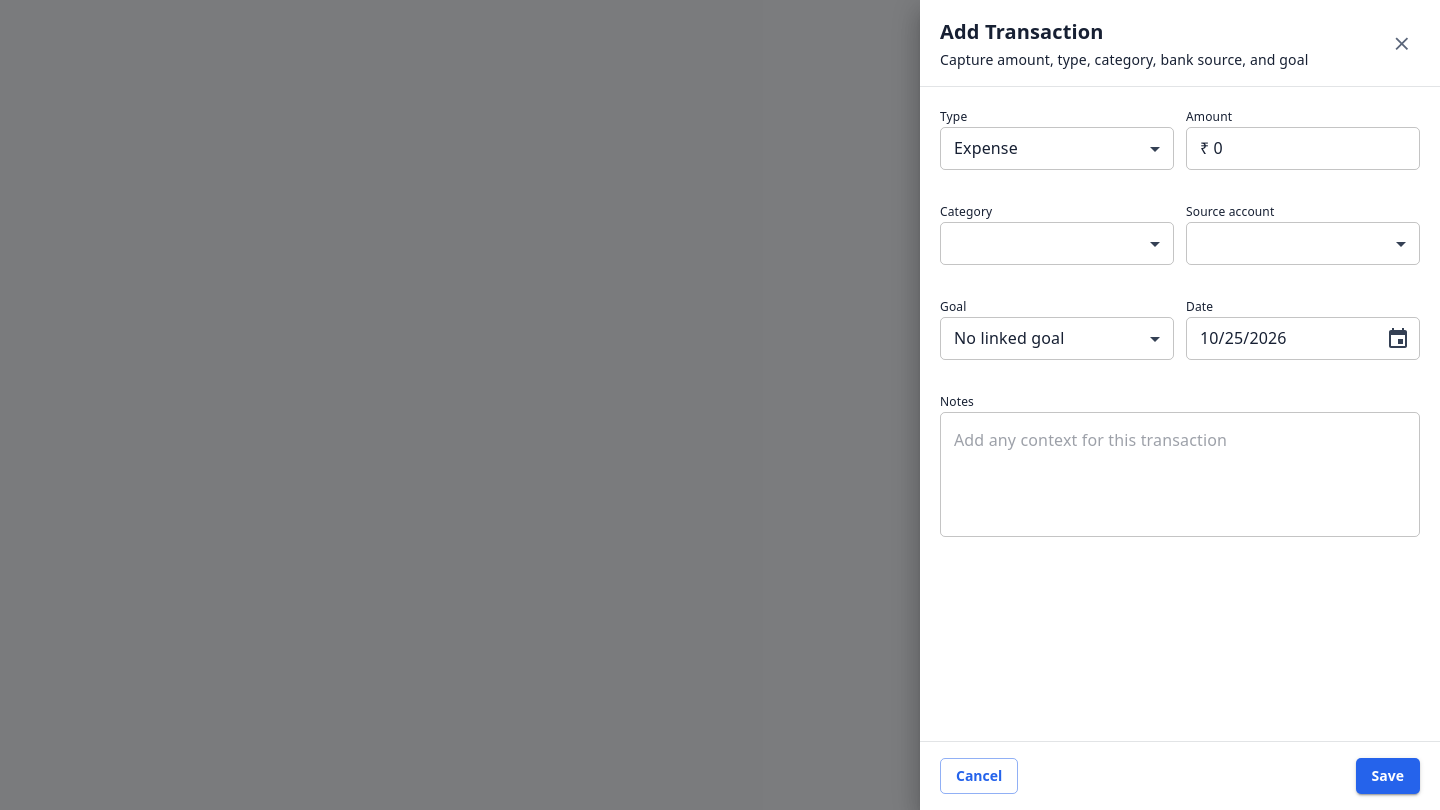
Test: TransactionsAddEditDrawer › displays a returned submit error and keeps the form available
The image size is (1440, 810).
Type "10" into the field with placeholder "Enter amount".
click(1303, 148); type("10")  # box top-left (1186, 128), bottom-right (1420, 168)
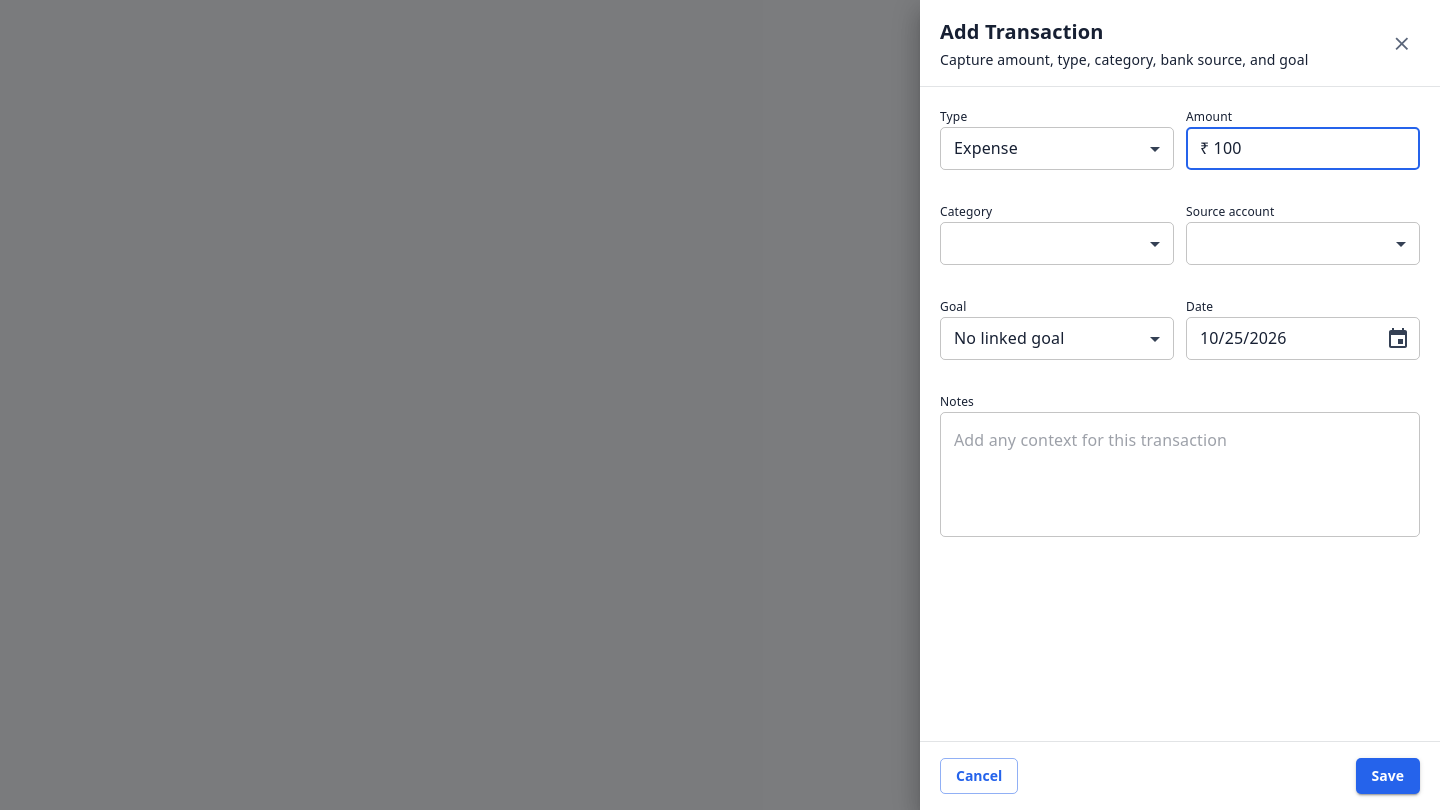
Click the 2nd dropdown.
click(1057, 244)  # box top-left (940, 224), bottom-right (1174, 264)
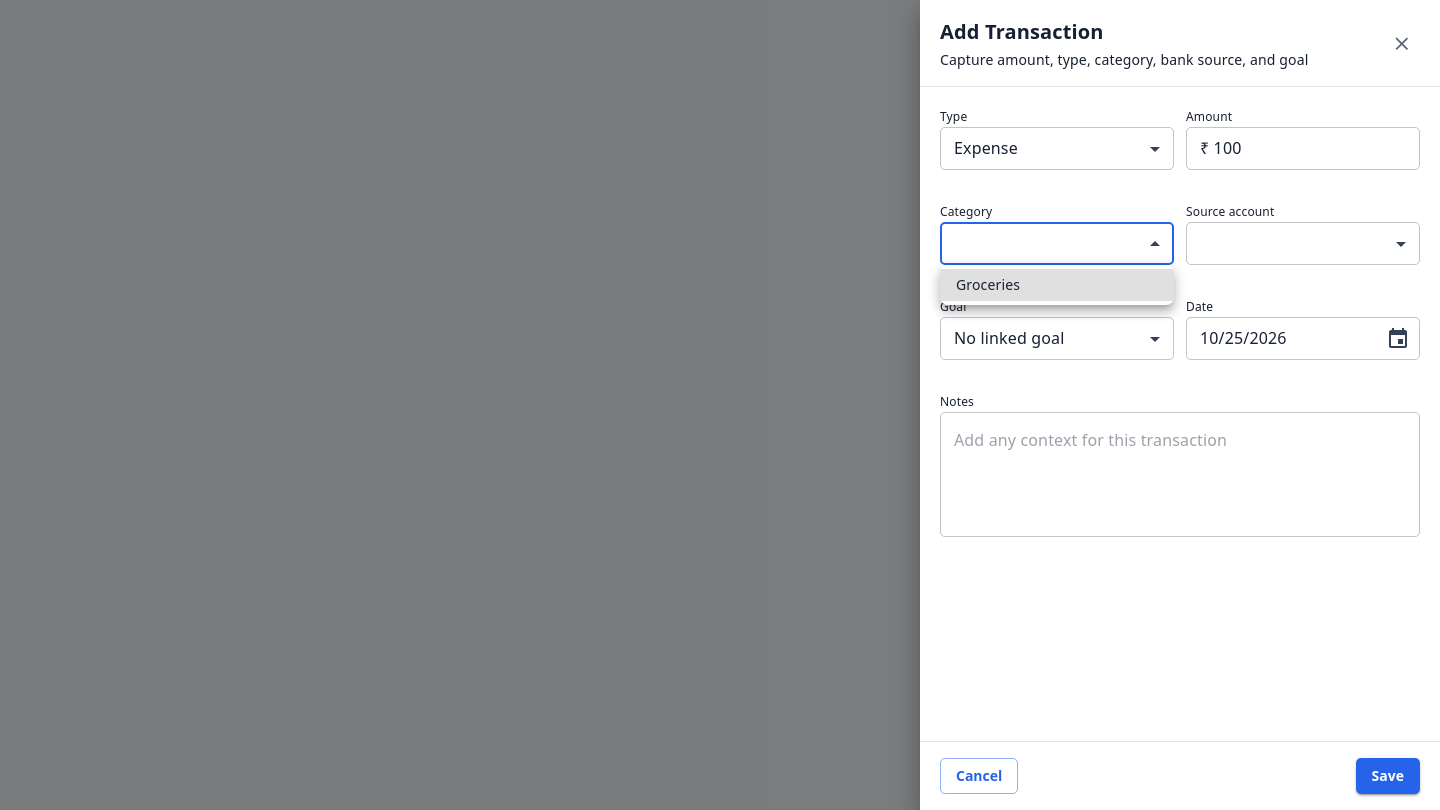
Click the option "Groceries".
click(1057, 285)  # box top-left (940, 269), bottom-right (1174, 301)
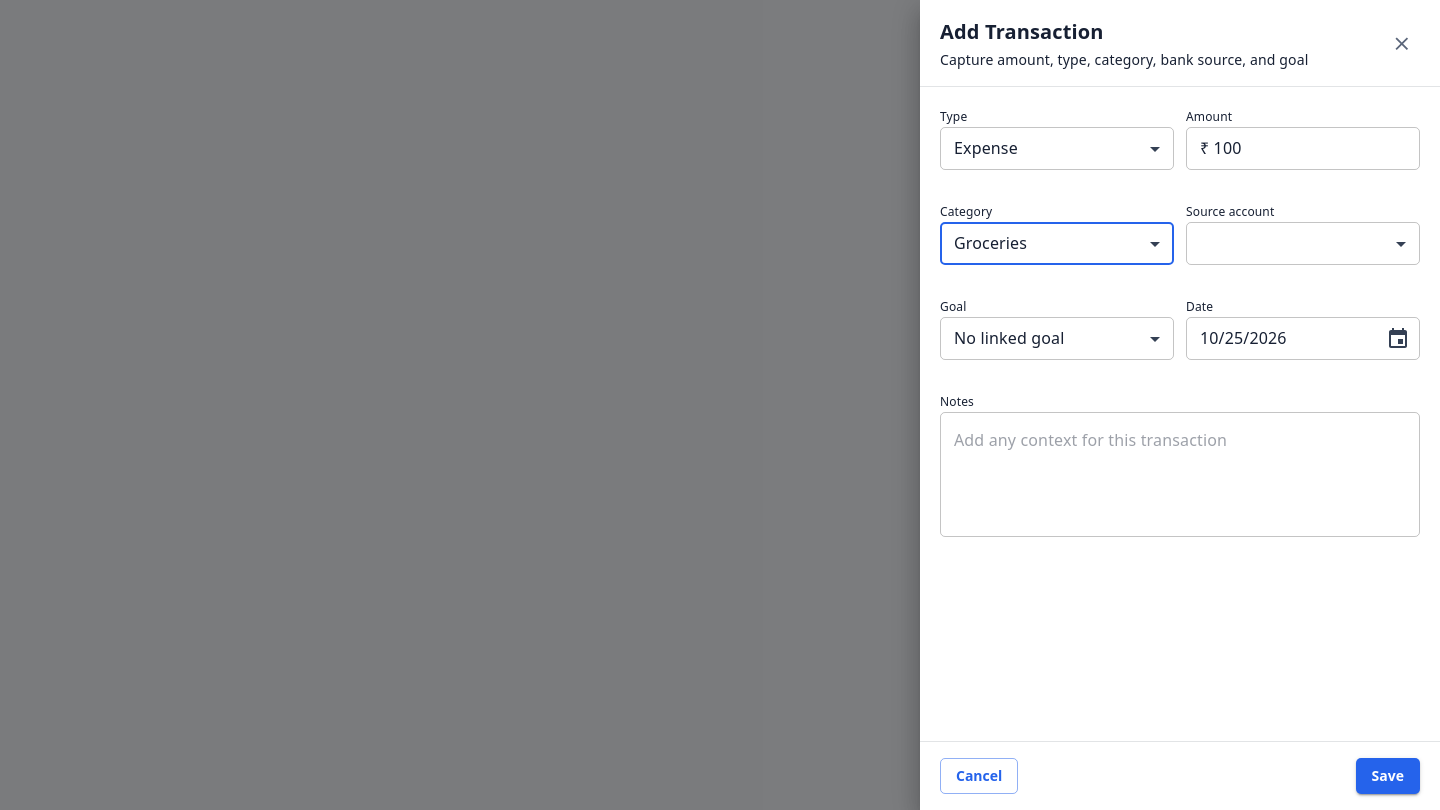
Click the 3rd dropdown.
click(1303, 244)  # box top-left (1186, 224), bottom-right (1420, 264)
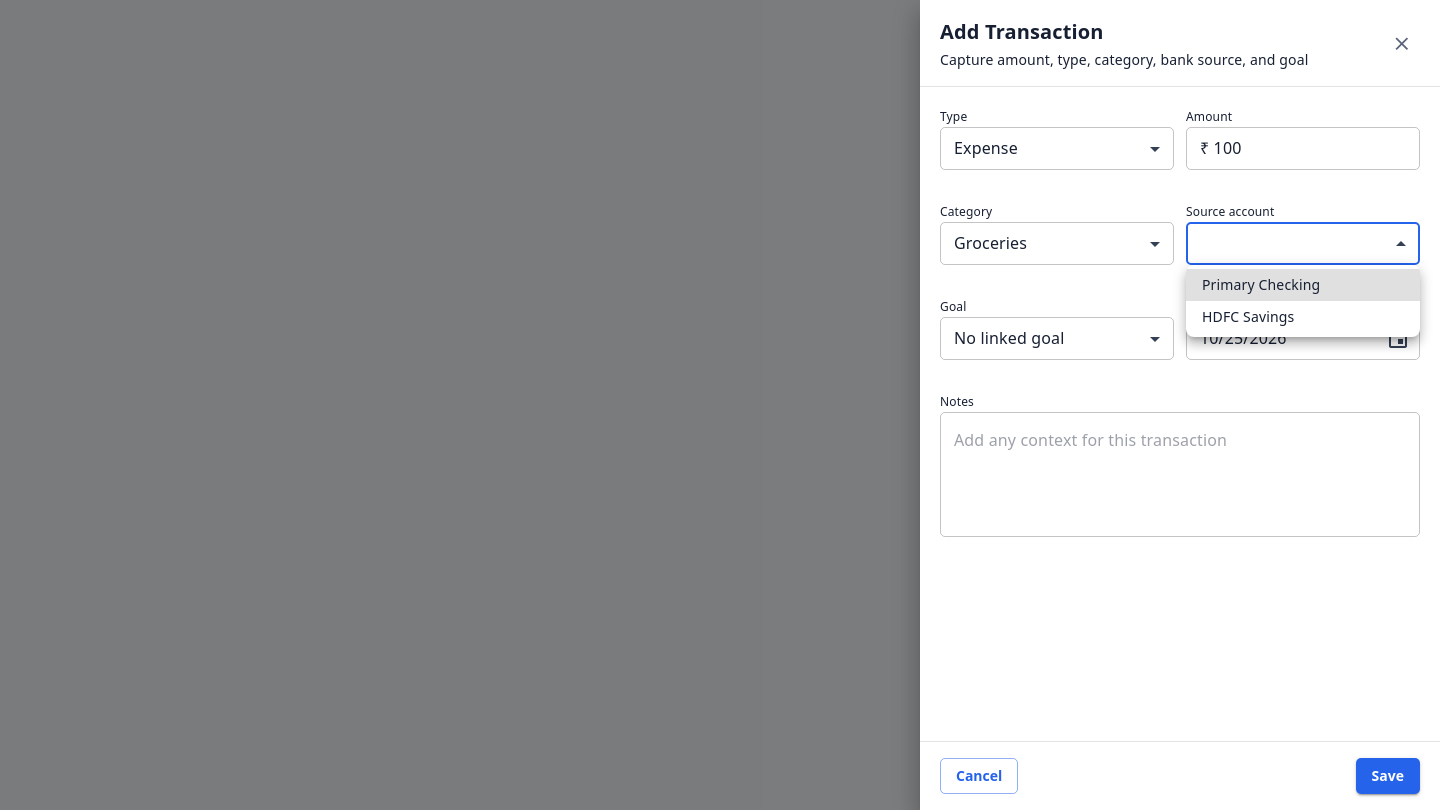
Click the option "Primary Checking".
click(1303, 285)  # box top-left (1186, 269), bottom-right (1420, 301)
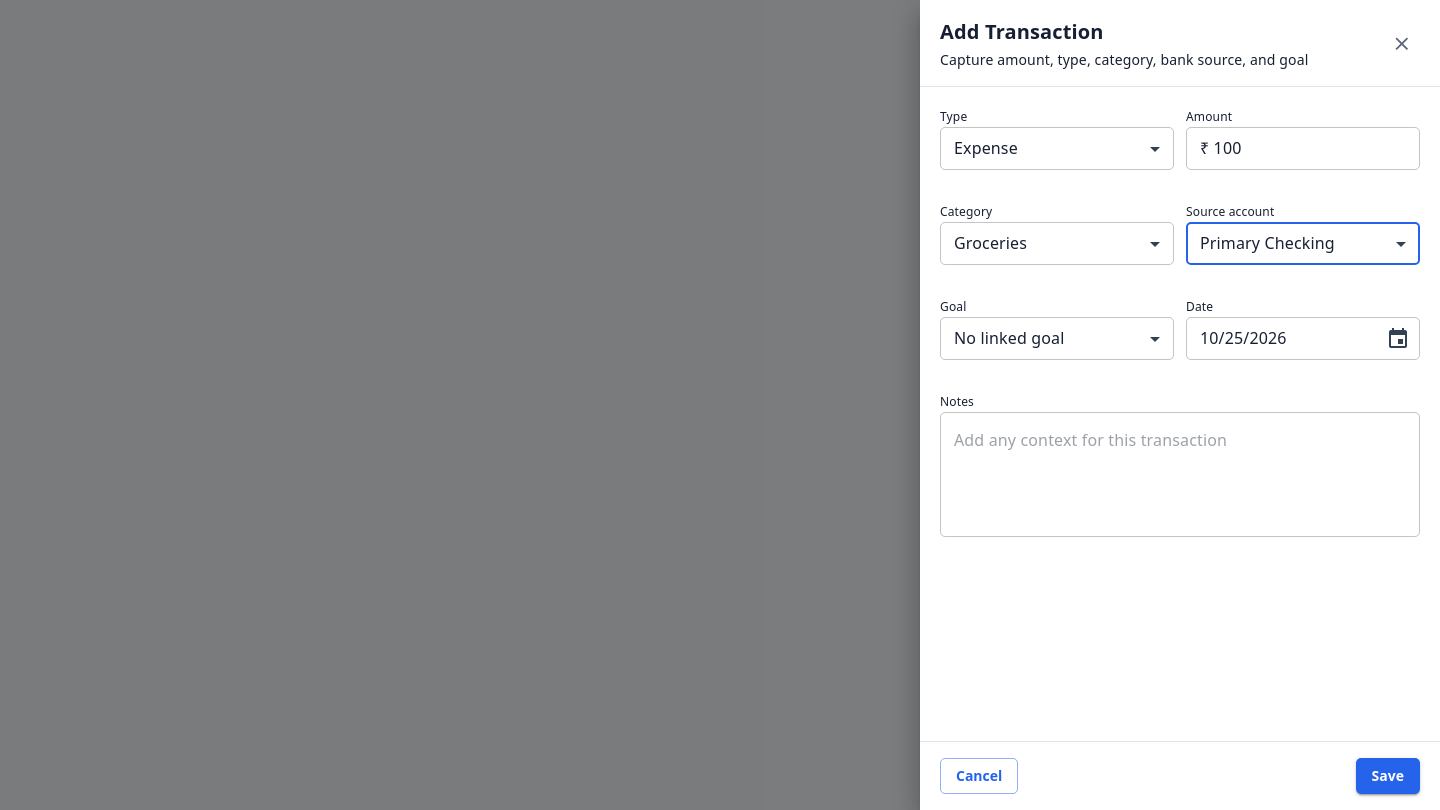
Click the button "Save".
click(1388, 776)  # box top-left (1356, 758), bottom-right (1420, 794)
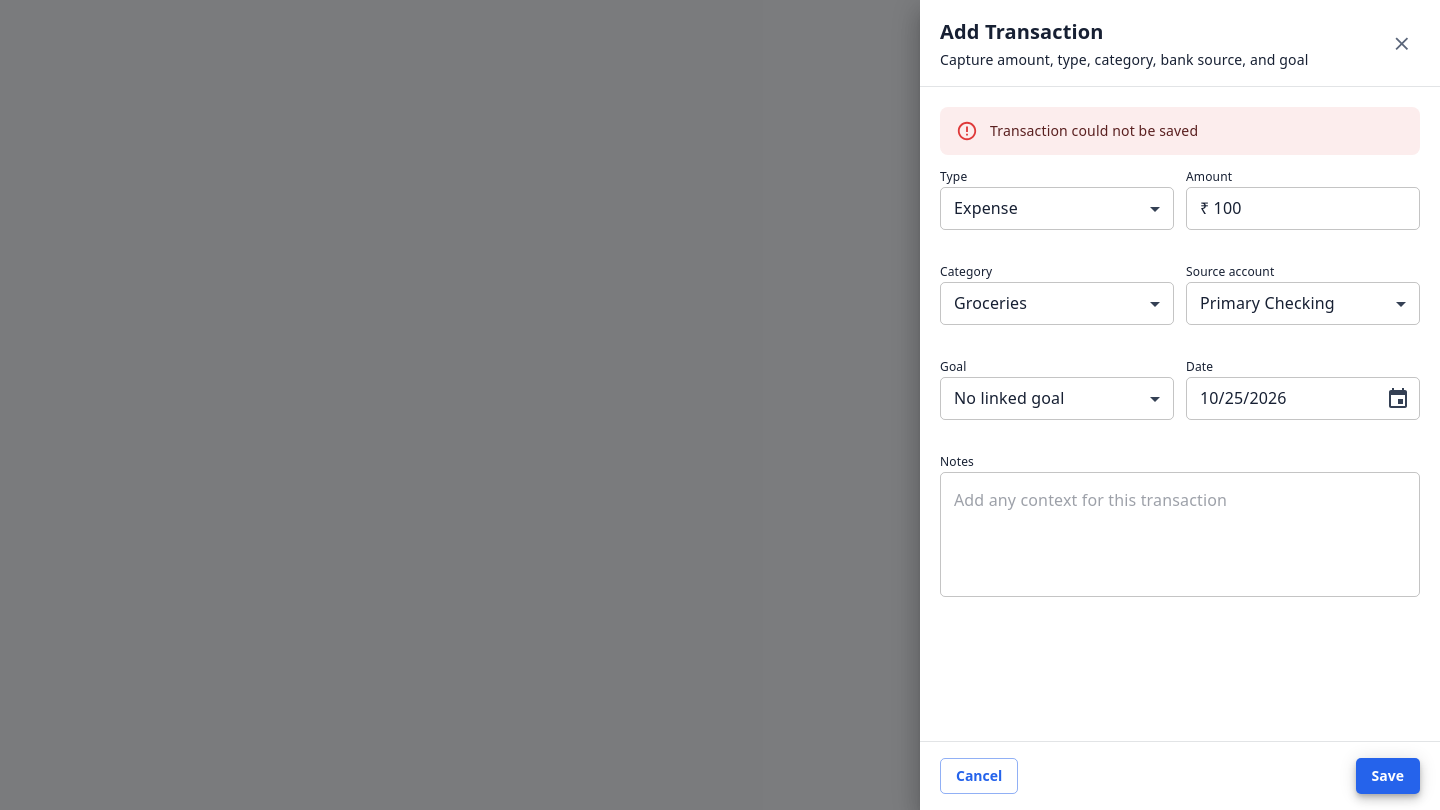
expect the text "Transaction could not be saved" is shown: met, box top-left (990, 121), bottom-right (1198, 140)
